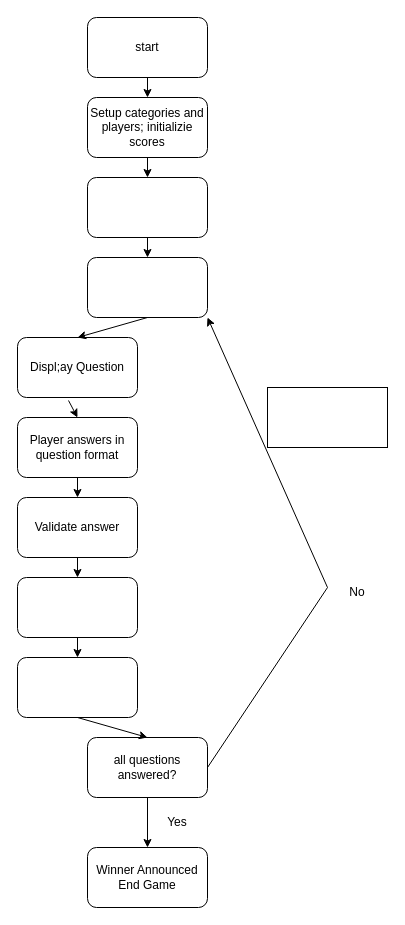
Image size: 405x925. Some labels were removed from this diagram. The shapes that lost their labels are listed below. From the top down, each one's box as (x1, y1, x2, y2) in pixels, then its label:
(86, 176, 208, 238): Display Game Board
(86, 256, 208, 318): player selects category and points
(16, 576, 138, 638): update scores
(16, 656, 138, 718): next players turn
